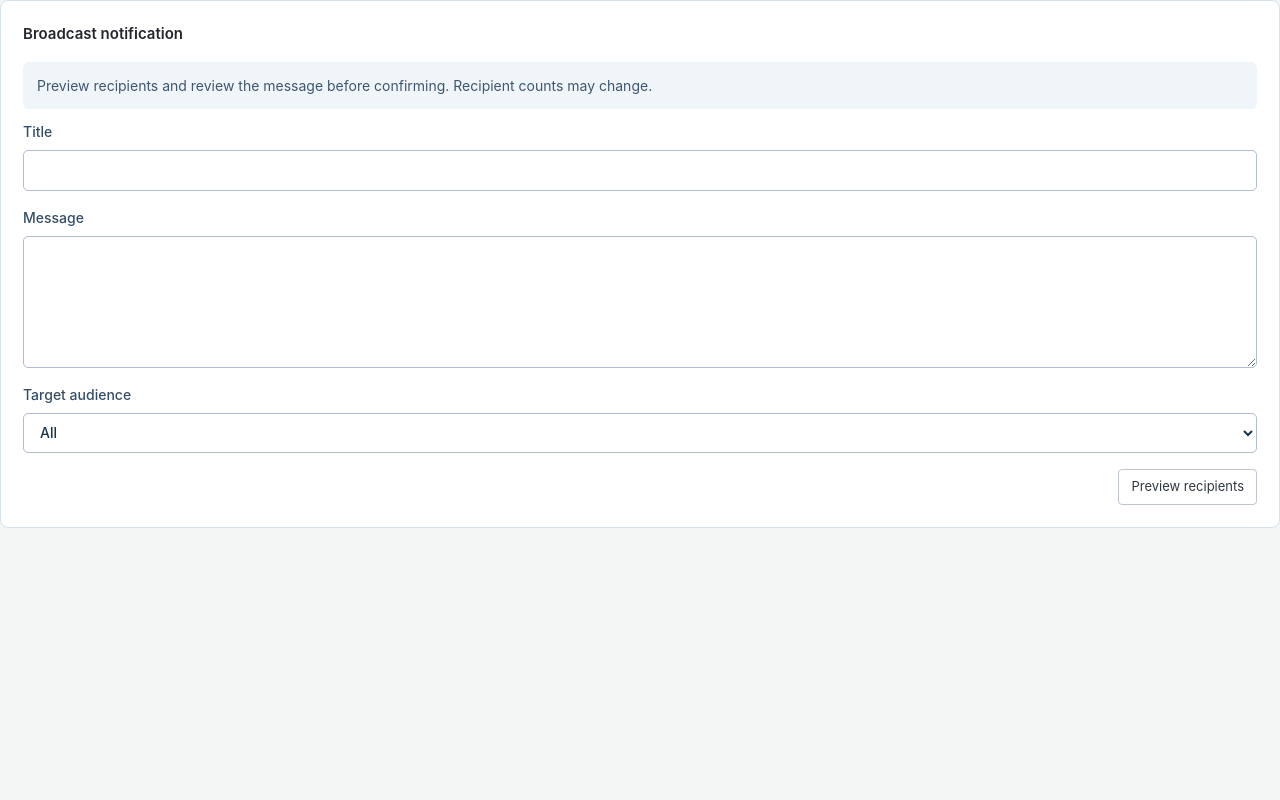
Test: requires preview and confirmation and blocks double send
The width and height of the screenshot is (1280, 800).
Type "Hello" into the field labelled "Title" at (640, 170), box [23,150,1257,191]
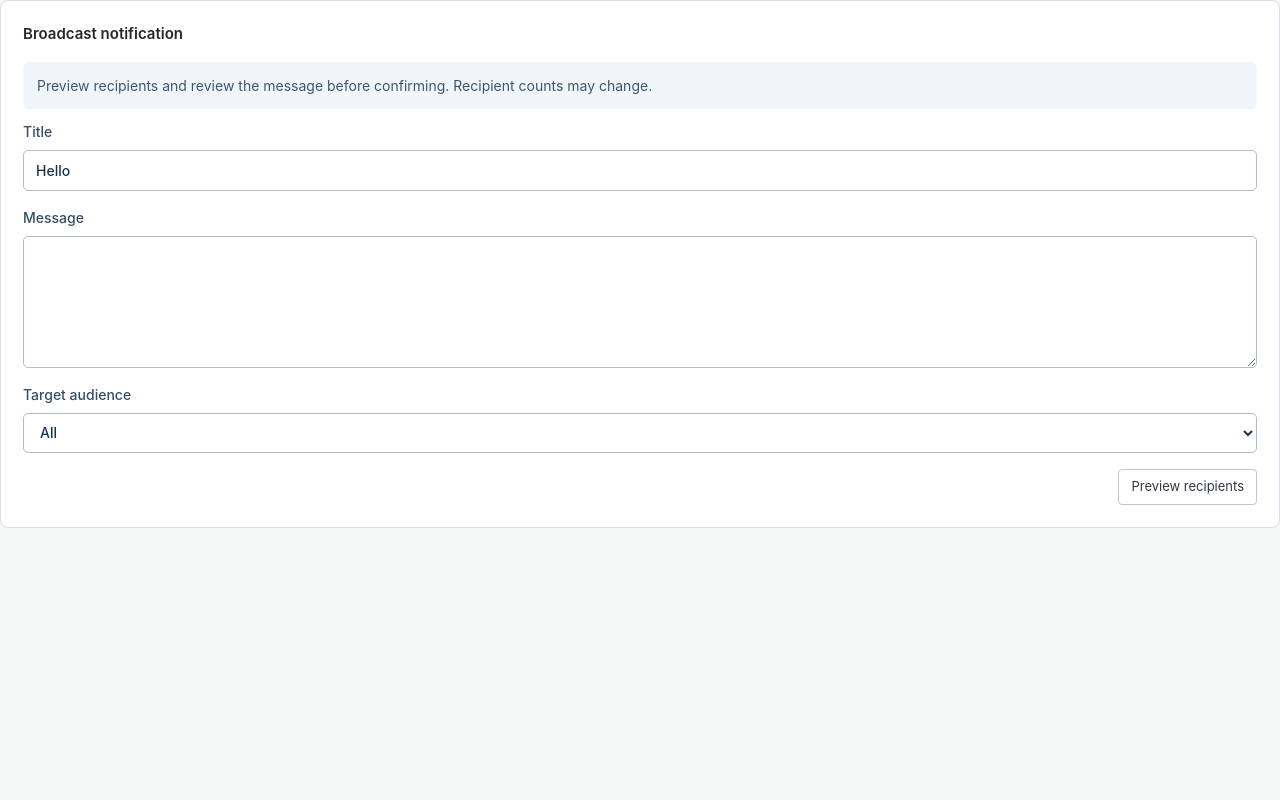
Type "Message body" into the text box labelled "Message" at (640, 302), box [23,236,1257,368]
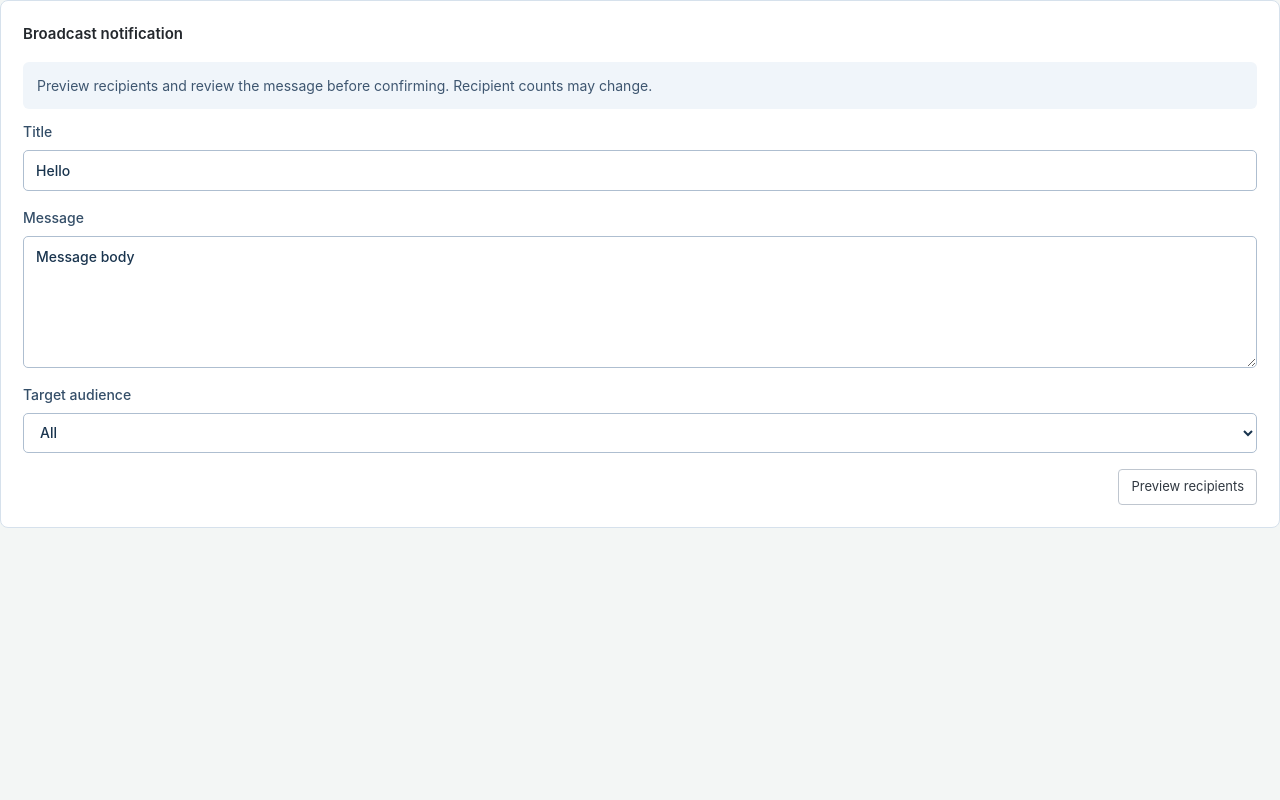
Click the button "Preview recipients" at (1188, 486), box [1118,468,1257,504]
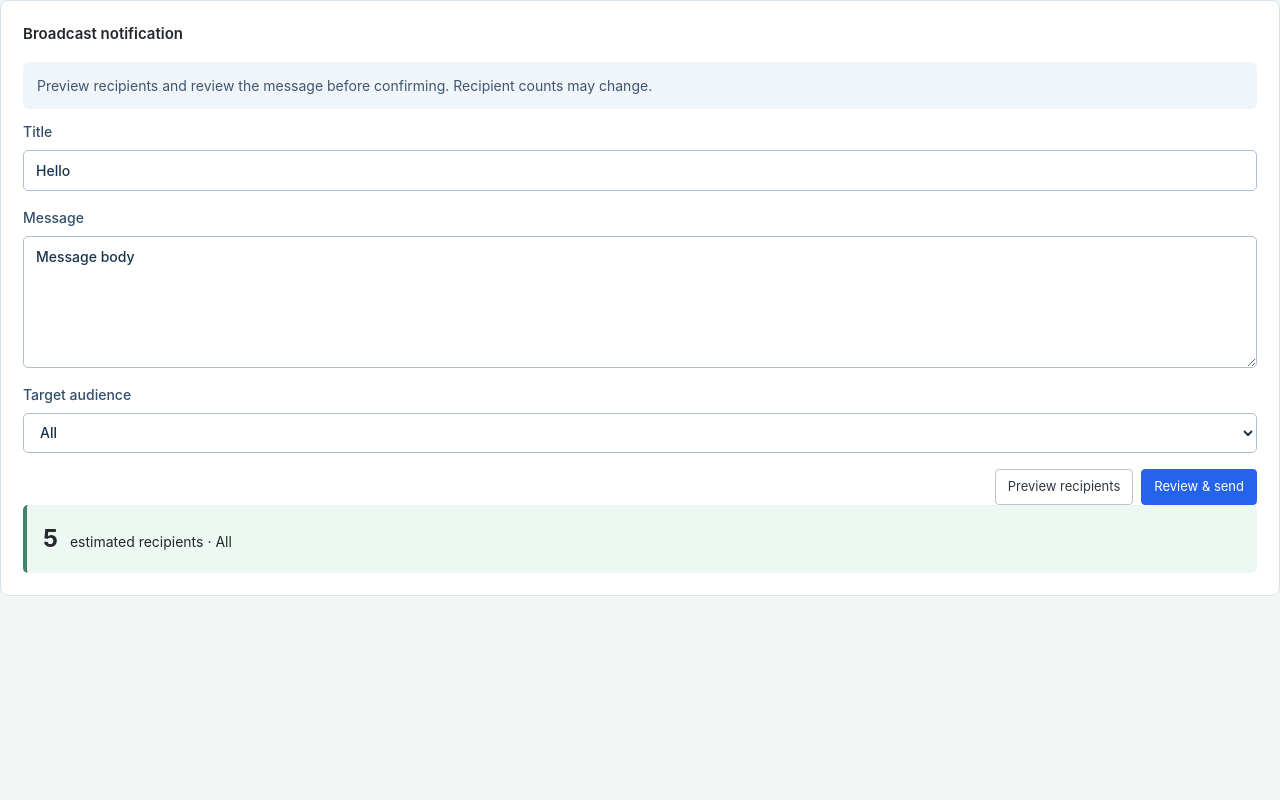
Click the button "Review & send" at (1199, 486), box [1141,468,1257,504]
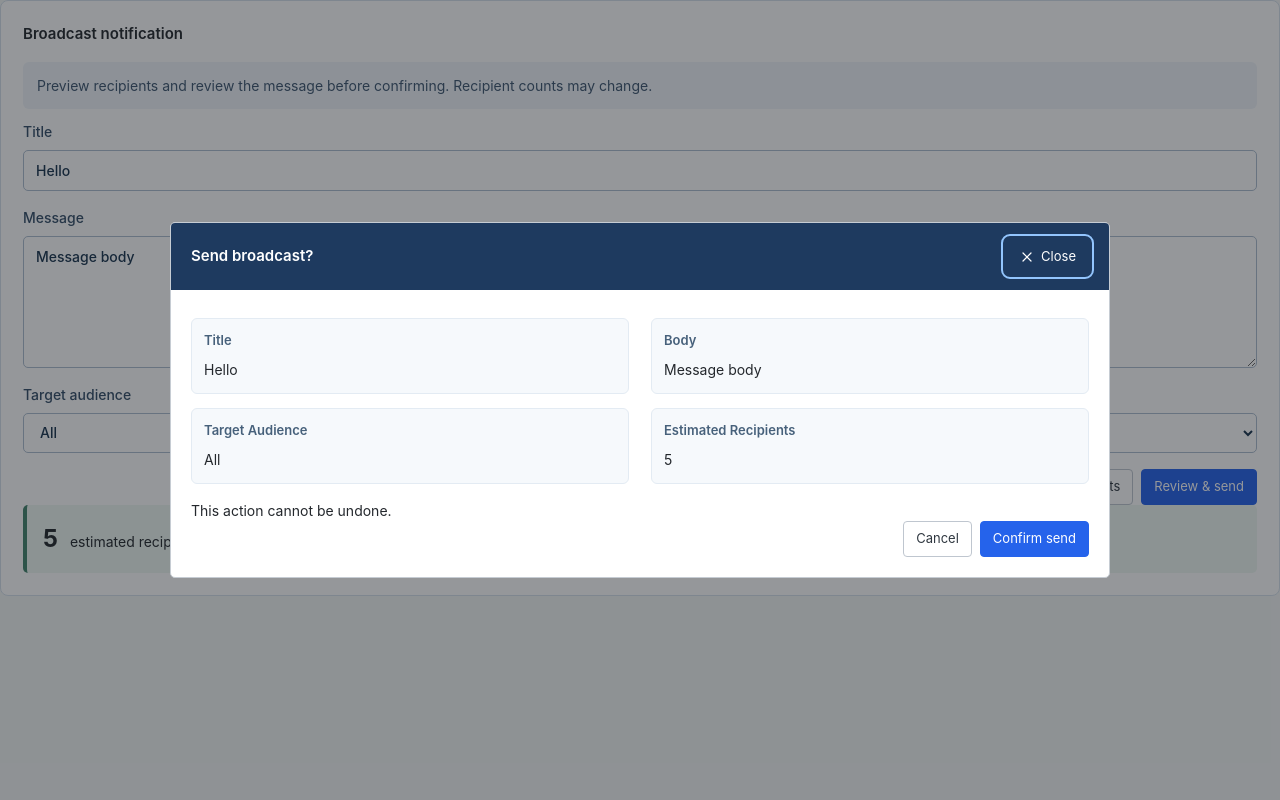
Click the button "Confirm send" at (1034, 539), box [980,521,1089,557]
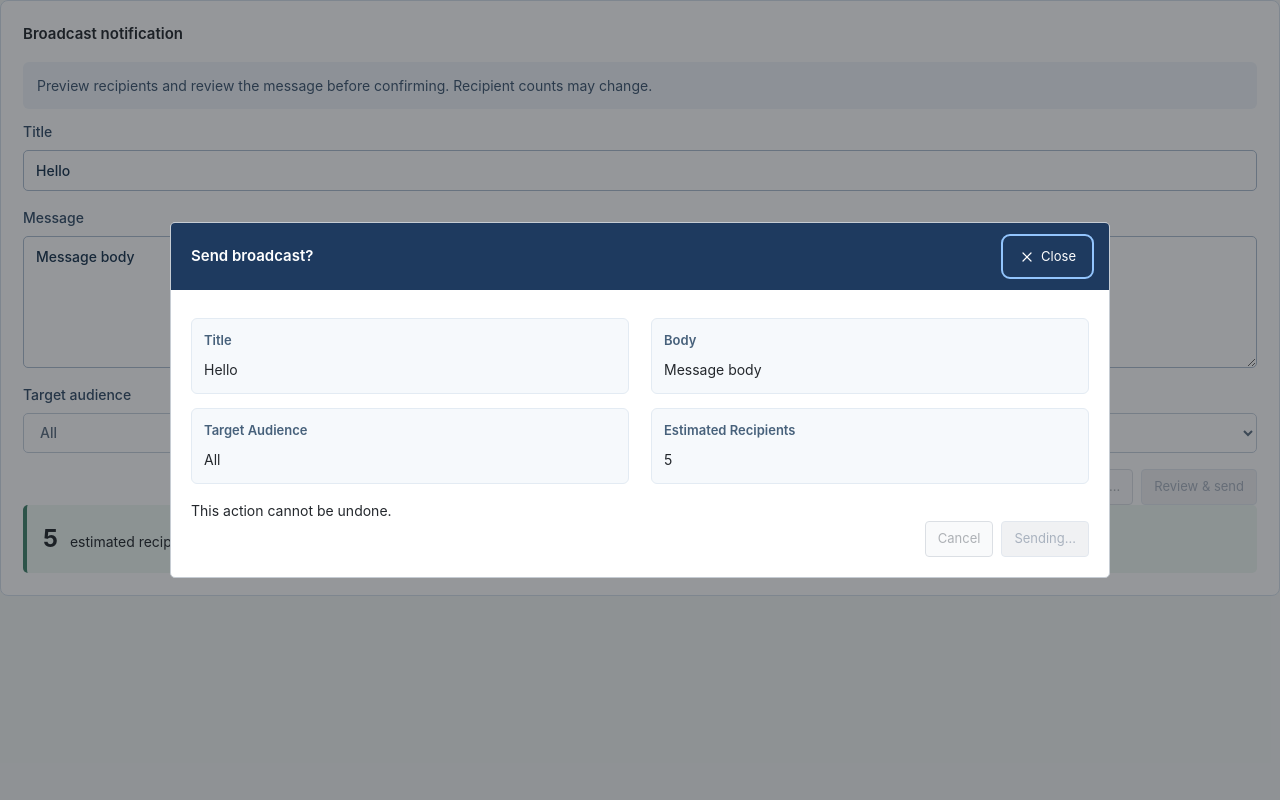
Click the button named "Confirm send" at (1045, 539), box [1001,521,1089,557]
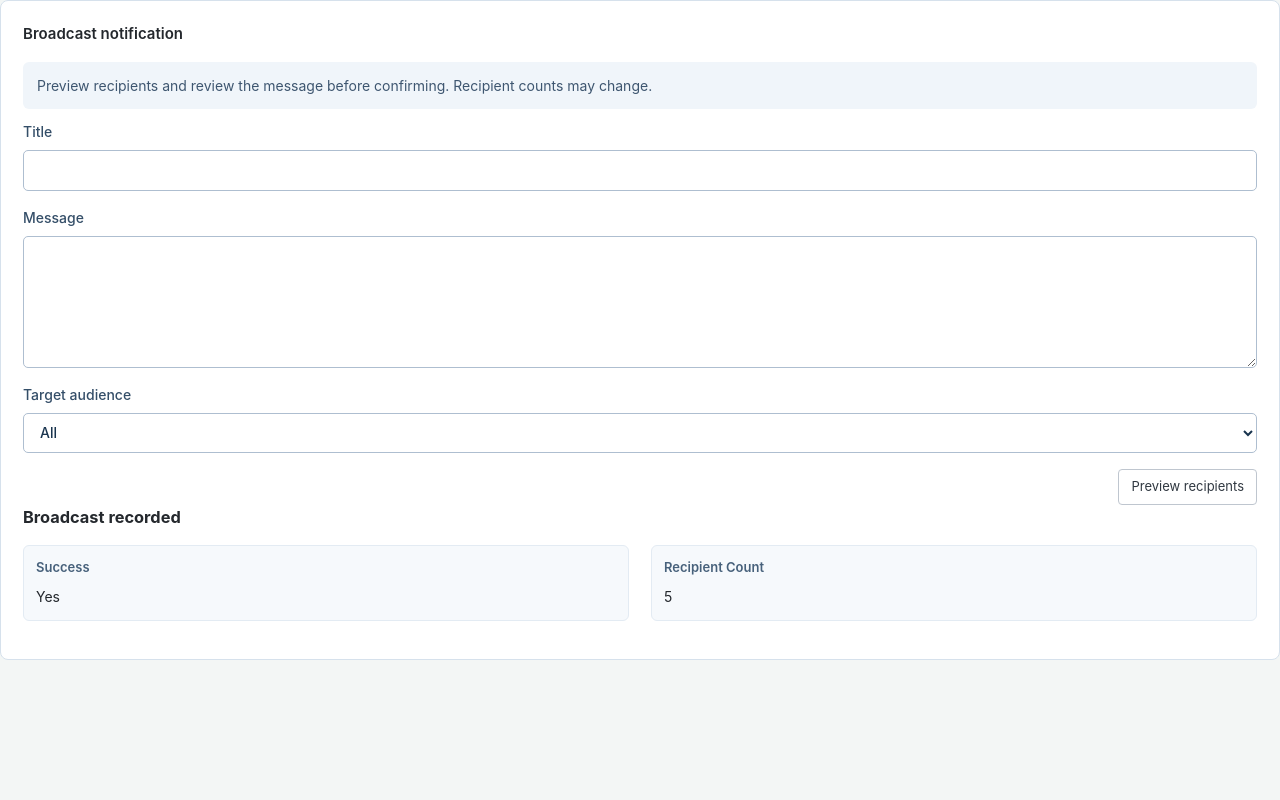
Expected: the heading "Broadcast recorded" is shown, [23,506,181,526]
